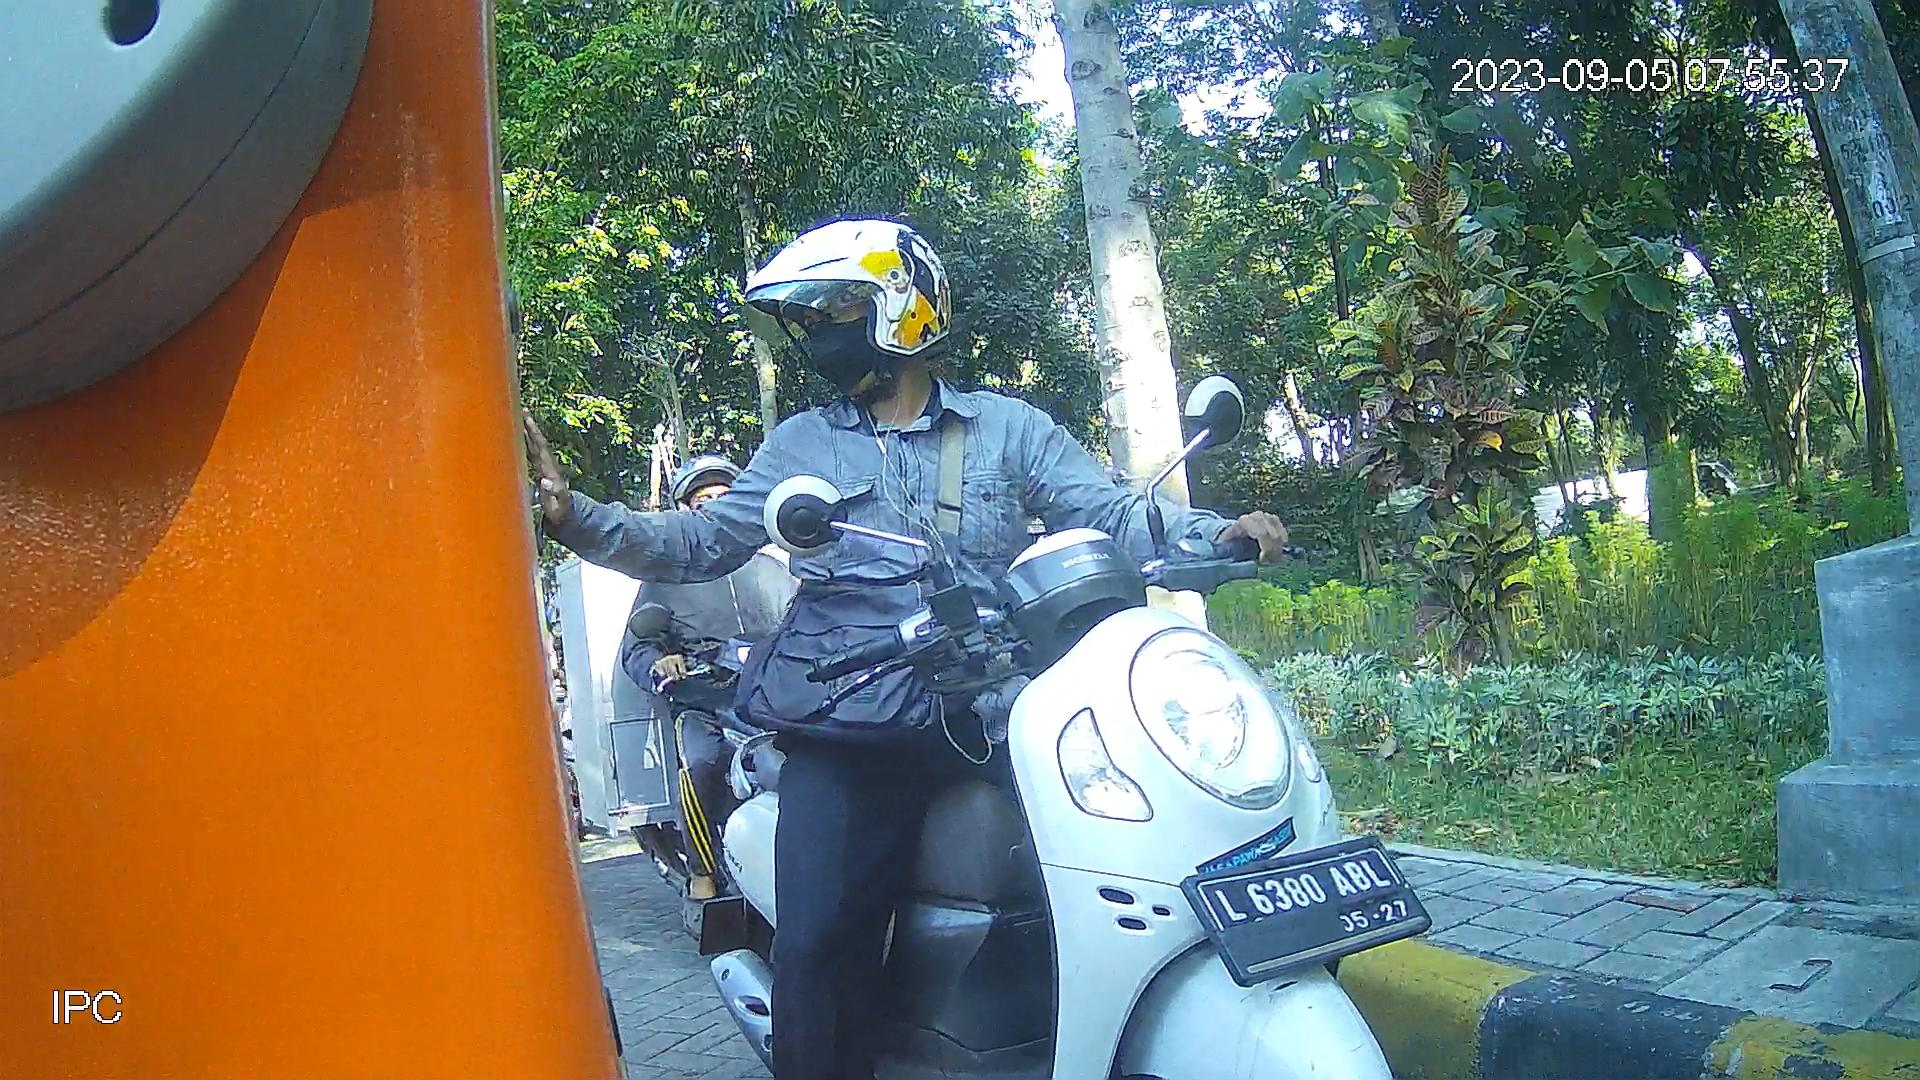plat: (1175, 832, 1439, 989)
